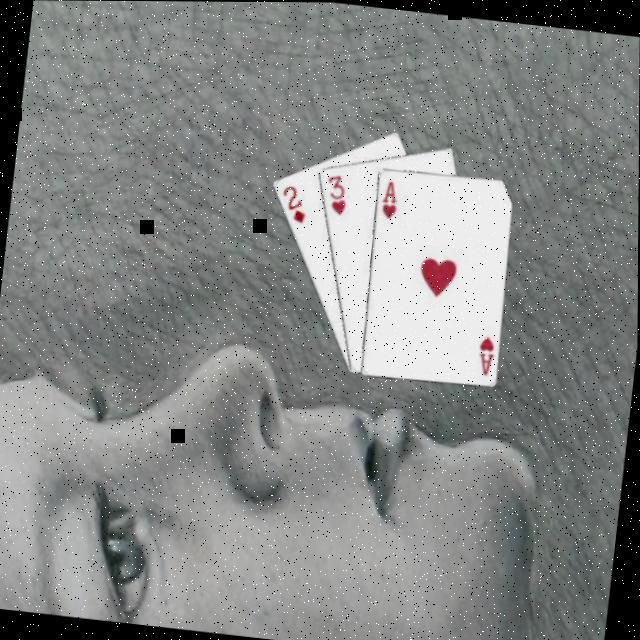2D: (274, 182, 308, 228)
3H: (319, 172, 350, 218)
AH: (472, 333, 496, 379), (375, 178, 399, 222)
